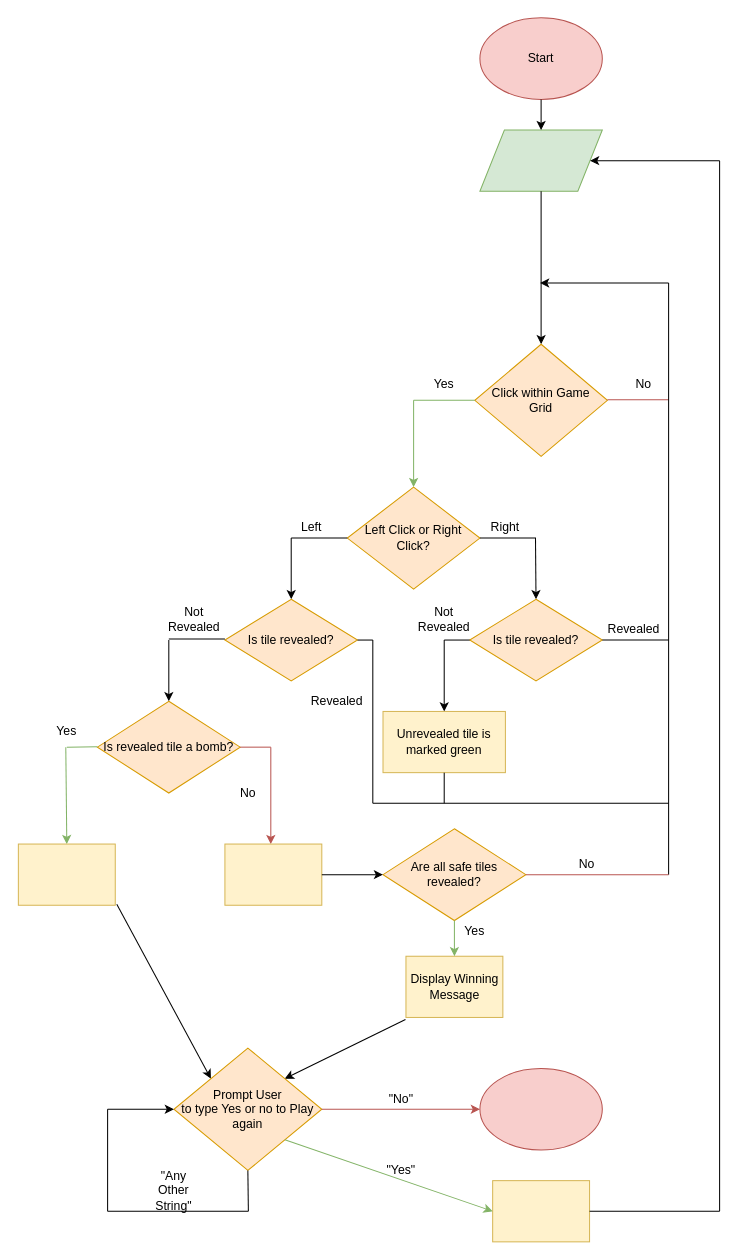
This 746x1260 diagram has some shape labels left out. The shapes that lost their labels are listed below. From the top down, each one's centre as x and y in pixels, then its label:
the point at 540,160: Play Button
the point at 66,874: Display a losing message
the point at 273,874: Reveal amount of bombs around tile with a number
the point at 540,1108: End Program
the point at 541,1211: Clear Current instance of Easy
